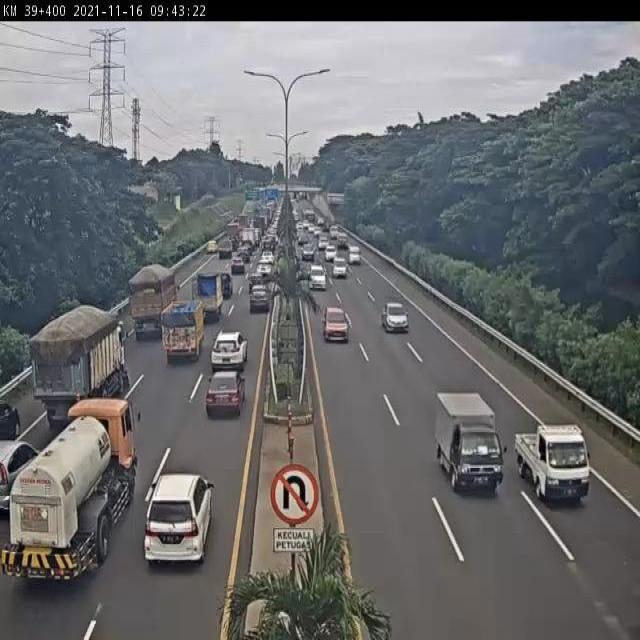car: (434, 389, 504, 499), (512, 427, 591, 508), (143, 475, 214, 564), (0, 436, 42, 515), (199, 364, 248, 424), (206, 324, 252, 380), (244, 282, 274, 322), (321, 304, 351, 344), (0, 401, 30, 439), (381, 301, 411, 336), (306, 264, 330, 295), (329, 253, 348, 283), (246, 267, 267, 293), (218, 270, 234, 302), (346, 241, 365, 267), (229, 251, 248, 276), (202, 236, 222, 257), (254, 261, 272, 283)
small truck: (157, 296, 209, 373), (193, 268, 231, 324)
truck-m-: (0, 398, 144, 594), (28, 301, 137, 432), (125, 263, 181, 337)
